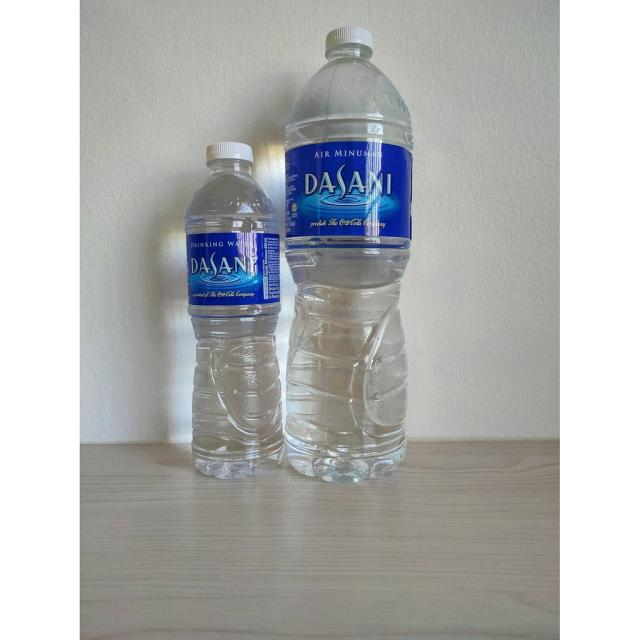plastic: (284, 28, 414, 481), (188, 141, 282, 481)
